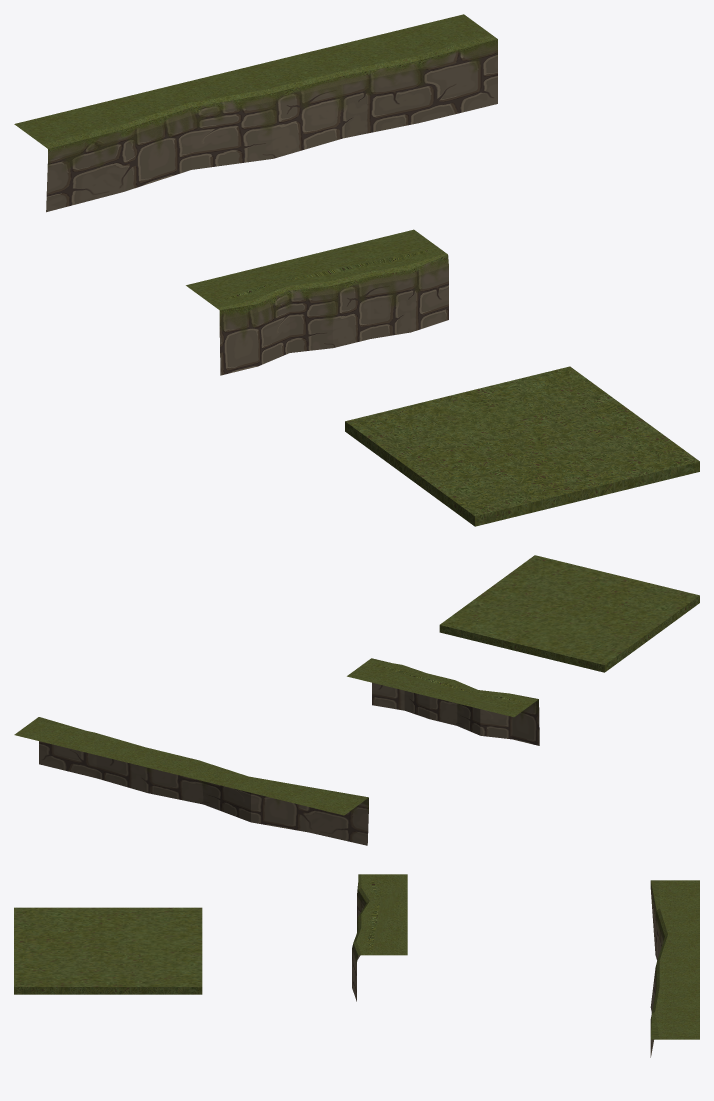
File: GrassHill.glb
3 views of the same model, one above another, from view 1: azimuth 30°, elevation 25°; view 2: azimuth 150°, elevation 25°; view 3: azimuth 270°, elevation 25° (orthographic). The views are drawn at different scales.
Parts seen in each view (by area): view 1: Grass_env_mod13, GroundTileGrass, Grass_env_mod12; view 2: GroundTileGrass, Grass_env_mod13, Grass_env_mod12; view 3: GroundTileGrass, Grass_env_mod13, Grass_env_mod12.
Part boxes in pixels (x1,y1,x2,y2): Grass_env_mod13: [14, 14, 497, 212]; GroundTileGrass: [345, 366, 699, 526]; Grass_env_mod12: [186, 229, 448, 375]; GroundTileGrass: [439, 555, 699, 672]; Grass_env_mod13: [14, 717, 368, 845]; Grass_env_mod12: [347, 658, 539, 745]; GroundTileGrass: [14, 907, 202, 994]; Grass_env_mod13: [650, 880, 699, 1057]; Grass_env_mod12: [352, 874, 407, 1001].
Bounding box in the file's own units: 8.53 × 1.21 × 14.56.
Materials: 3 (3 with a texture image).
